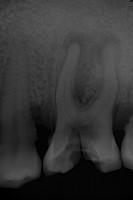Dental Caries: (62, 29, 124, 101)
